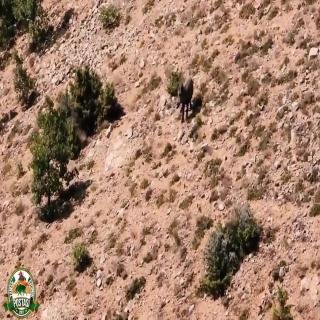Pig: (174, 68, 195, 124)
